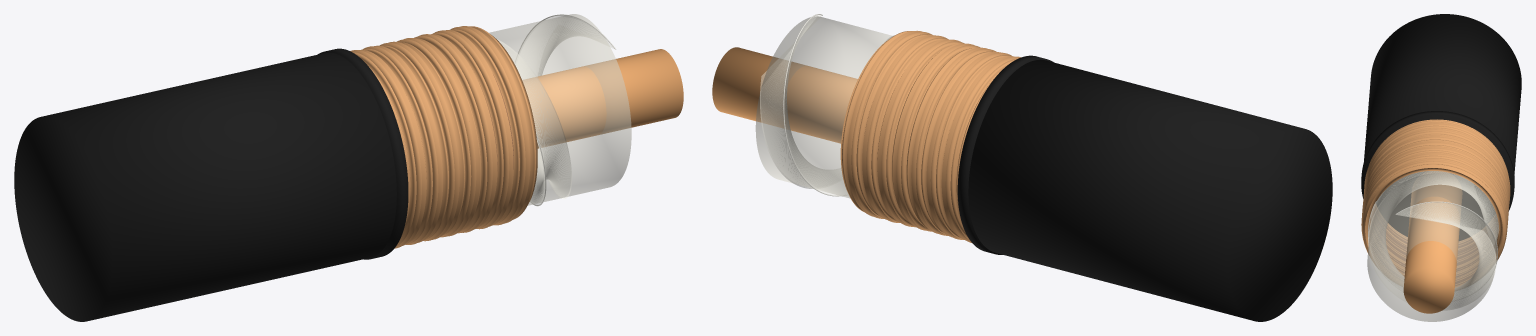
3 views of the same model, side by side, from view 1: azimuth 30°, elevation 25°; view 2: azimuth 150°, elevation 25°; view 3: azimuth 270°, elevation 25° (orthographic). The views are drawn at different scales.
Visible parts, largest first — view 1: black PE jacket body, corrugated copper shield, foam PE dielectric, solid center conductor continuous, surface PTFE tape wrap, jacket cut lip; view 2: black PE jacket body, corrugated copper shield, foam PE dielectric, solid center conductor continuous, surface PTFE tape wrap, jacket cut lip; view 3: black PE jacket body, foam PE dielectric, corrugated copper shield, surface PTFE tape wrap, solid center conductor continuous, jacket cut lip, dark groove shadow pass, subtle PTFE tape lap line.
Part boxes in pixels (<box>): black PE jacket body: <box>14,52,396,321</box>; corrugated copper shield: <box>350,26,537,248</box>; foam PE dielectric: <box>489,14,631,205</box>; solid center conductor continuous: <box>522,49,683,148</box>; surface PTFE tape wrap: <box>497,16,614,204</box>; jacket cut lip: <box>318,48,408,259</box>; black PE jacket body: <box>968,59,1332,321</box>; corrugated copper shield: <box>840,30,1020,242</box>; foam PE dielectric: <box>755,16,892,198</box>; solid center conductor continuous: <box>712,47,857,143</box>; surface PTFE tape wrap: <box>760,15,893,194</box>; jacket cut lip: <box>957,55,1053,254</box>; black PE jacket body: <box>1364,14,1521,174</box>; foam PE dielectric: <box>1367,171,1498,321</box>; corrugated copper shield: <box>1361,119,1510,287</box>; surface PTFE tape wrap: <box>1368,171,1498,310</box>; solid center conductor continuous: <box>1403,171,1462,313</box>; jacket cut lip: <box>1361,111,1514,240</box>; dark groove shadow pass: <box>1370,206,1498,285</box>; subtle PTFE tape lap line: <box>1368,201,1497,268</box>.
Bounding box in the file's own units: 6.69 × 2.07 × 2.17.
